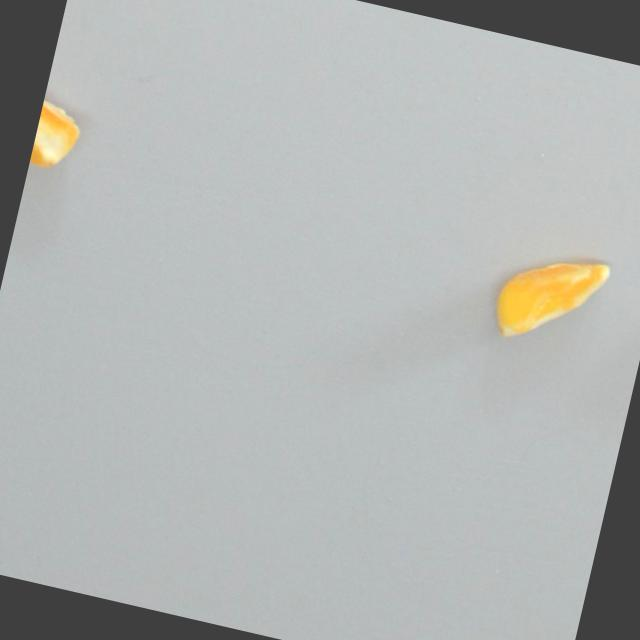pelicula: (480, 237, 619, 361), (27, 85, 91, 178)
